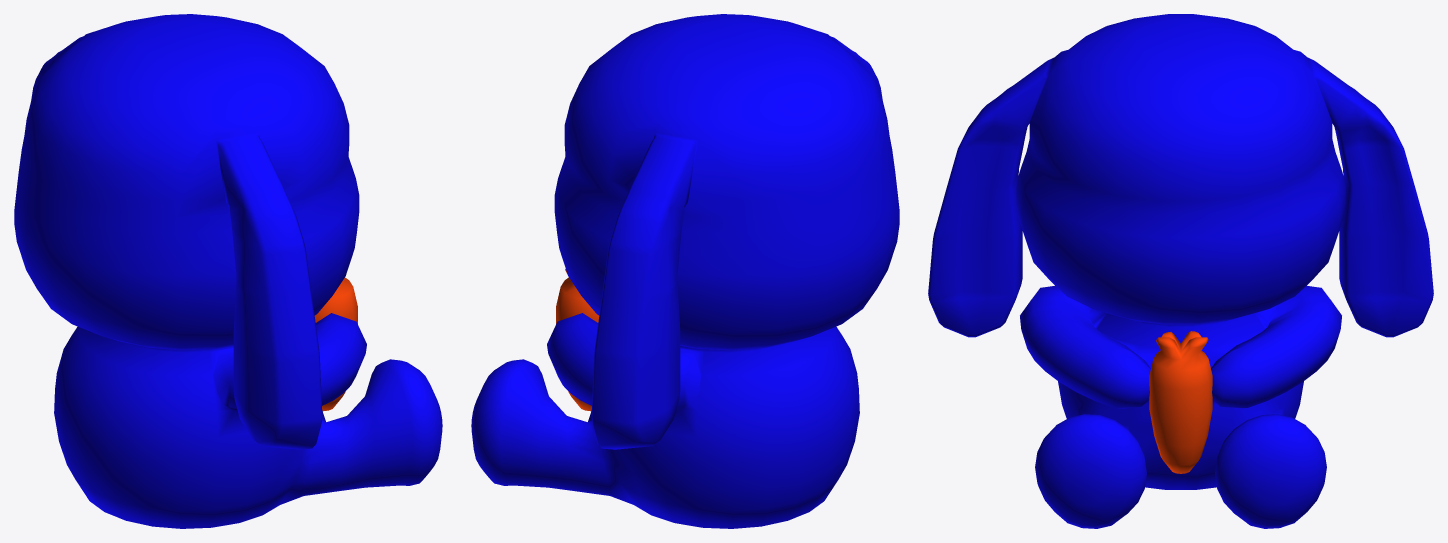
File: RabbitPlush.fbx
The picture shows the model from 3 angles, left to right: view 1: azimuth 30°, elevation 25°; view 2: azimuth 150°, elevation 25°; view 3: azimuth 270°, elevation 25°; orthographic projection. The views are drawn at different scales.
Visible parts, largest first — view 1: PlushRabbit, PlushCarrot; view 2: PlushRabbit, PlushCarrot; view 3: PlushRabbit, PlushCarrot.
Part boxes in pixels (left/top/right/bottom): PlushRabbit: left=14, top=14, right=442, bottom=528; PlushCarrot: left=314, top=277, right=357, bottom=410; PlushRabbit: left=471, top=14, right=899, bottom=528; PlushCarrot: left=556, top=269, right=599, bottom=410; PlushRabbit: left=928, top=14, right=1433, bottom=528; PlushCarrot: left=1149, top=331, right=1212, bottom=473.
Bounding box in the file's own units: 457 × 558 × 624.
